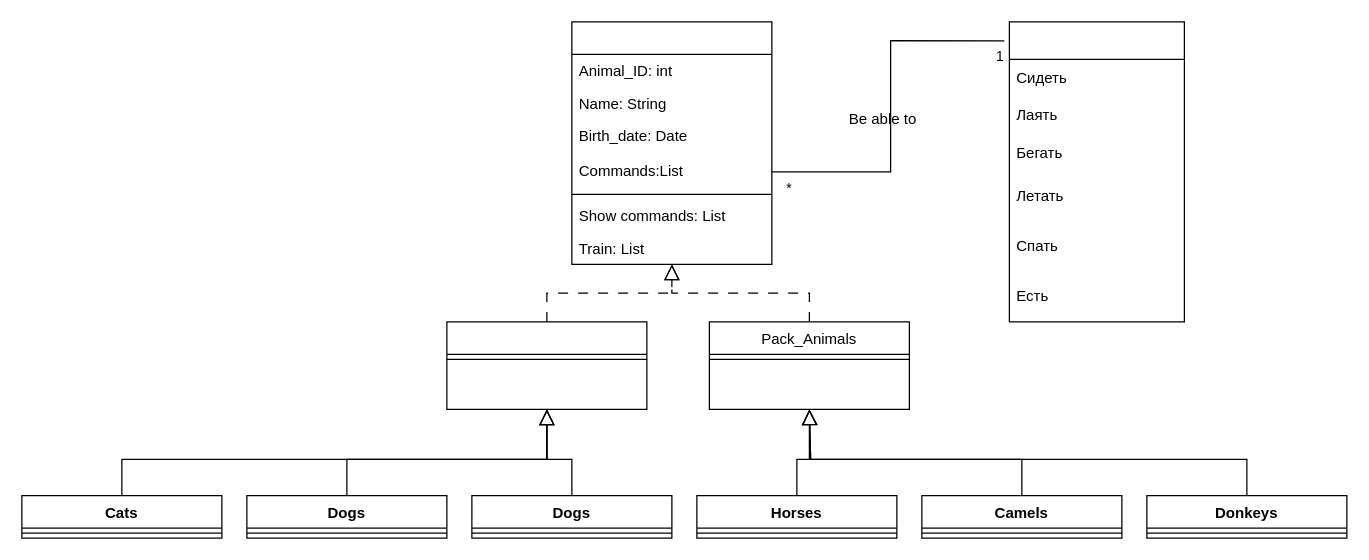
The diagram is 1369 pixels wide and 560 high, and some of its shapes have lost their labels. Here are the shapes that lost their labels. From the top down, the box of each, then its label:
(571, 21, 772, 264): Animals
(1008, 21, 1184, 322): Commands
(446, 321, 647, 409): Pets
